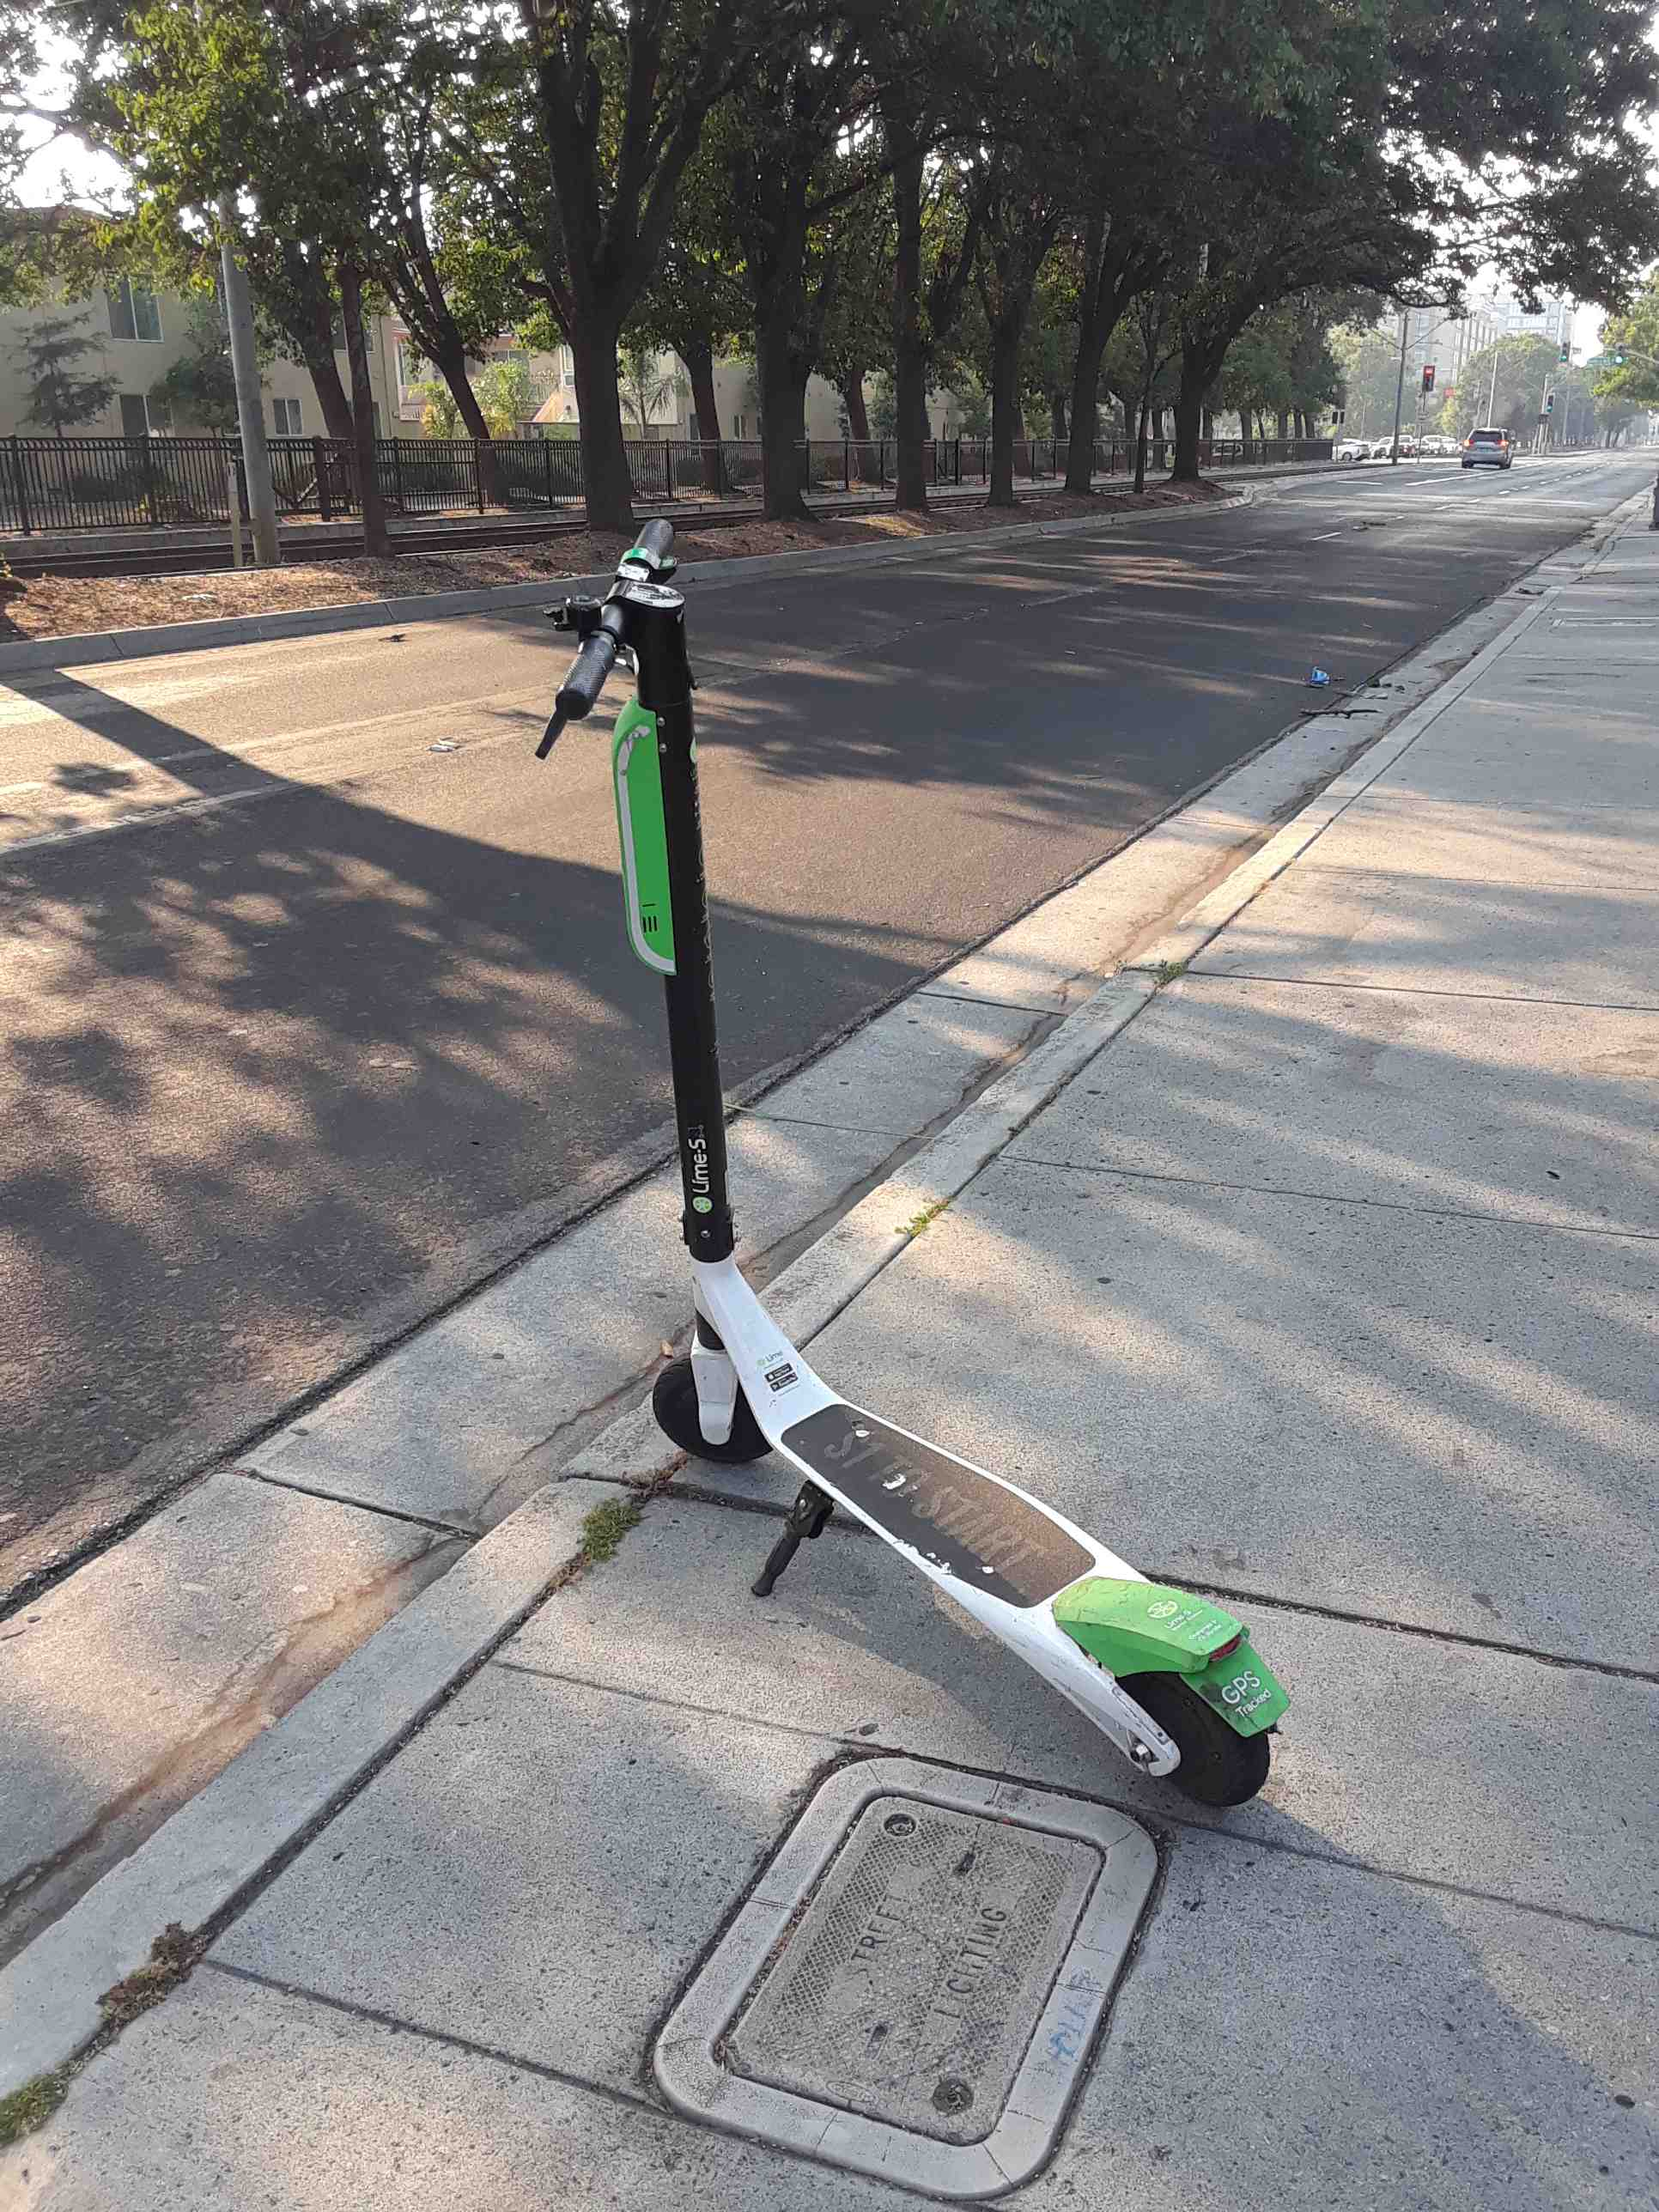scooter: (486, 507, 1279, 1834)
